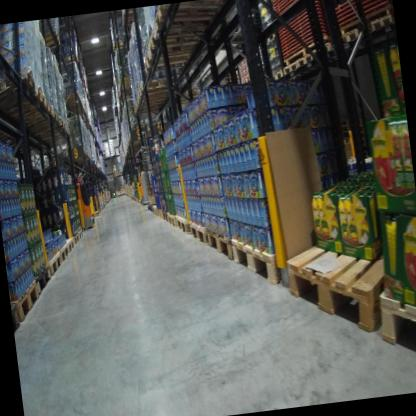pallet: (276, 205, 393, 348), (227, 205, 324, 290), (368, 280, 416, 373), (147, 18, 220, 58), (150, 0, 238, 33), (0, 67, 51, 111), (141, 40, 198, 77), (3, 96, 57, 132), (9, 277, 42, 326), (10, 110, 63, 138), (16, 117, 69, 144), (24, 123, 73, 147), (207, 222, 235, 262), (136, 74, 174, 102), (134, 96, 176, 116), (309, 37, 340, 64), (336, 21, 363, 51), (135, 89, 178, 107), (369, 7, 395, 36), (188, 215, 209, 250), (30, 263, 51, 295), (35, 29, 62, 51), (44, 250, 63, 273), (59, 234, 77, 258), (294, 49, 313, 71), (10, 299, 22, 333), (118, 9, 140, 27), (177, 211, 192, 235), (55, 242, 70, 264), (280, 60, 298, 76), (61, 53, 84, 64), (167, 210, 178, 231), (69, 231, 80, 247), (273, 67, 285, 81), (150, 201, 159, 217), (161, 207, 169, 223), (157, 207, 163, 223), (92, 209, 100, 219), (76, 228, 83, 238)
pallet_truck: (129, 119, 166, 207), (69, 171, 98, 231)
